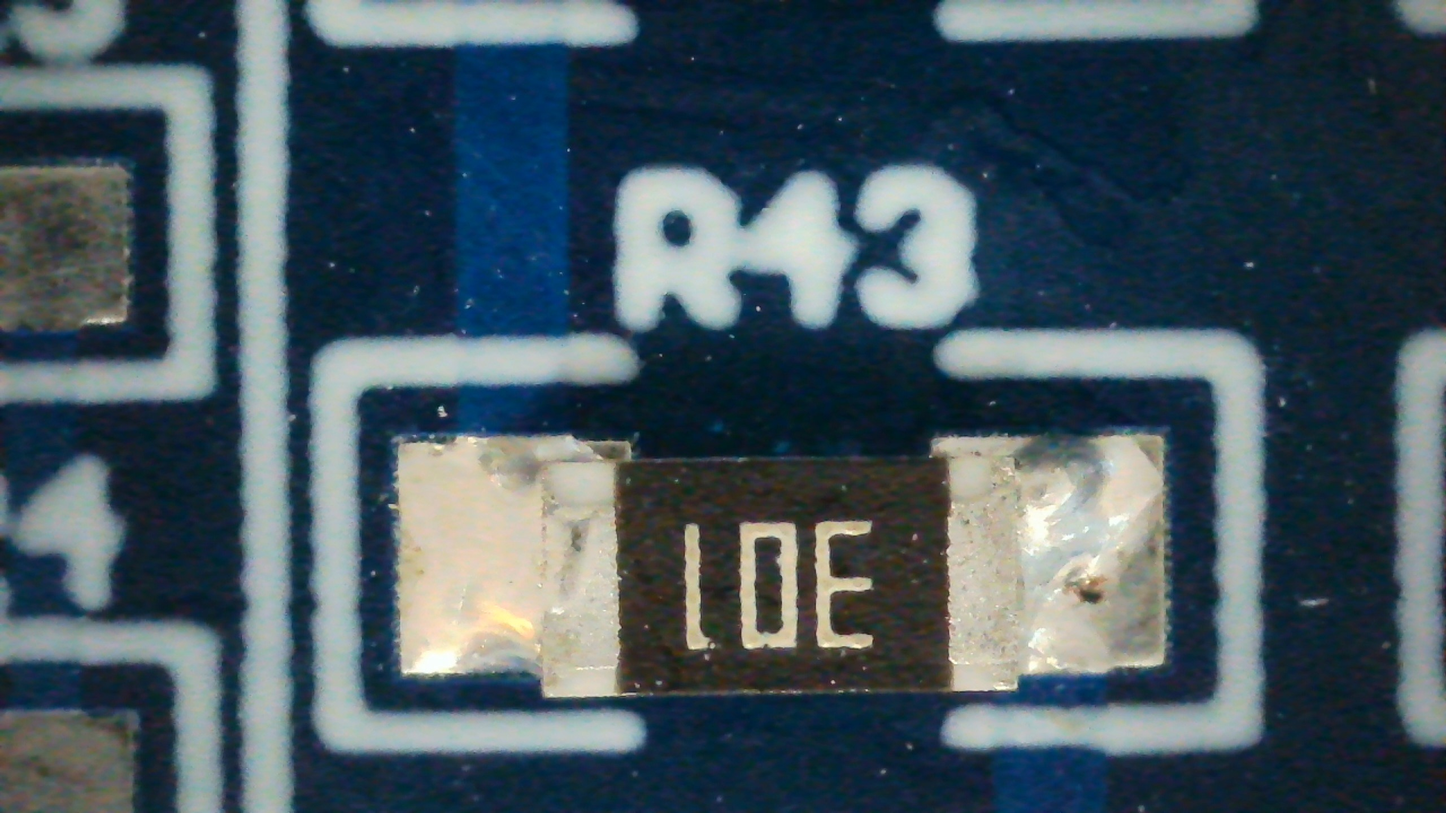NG: (401, 439, 1162, 698)
